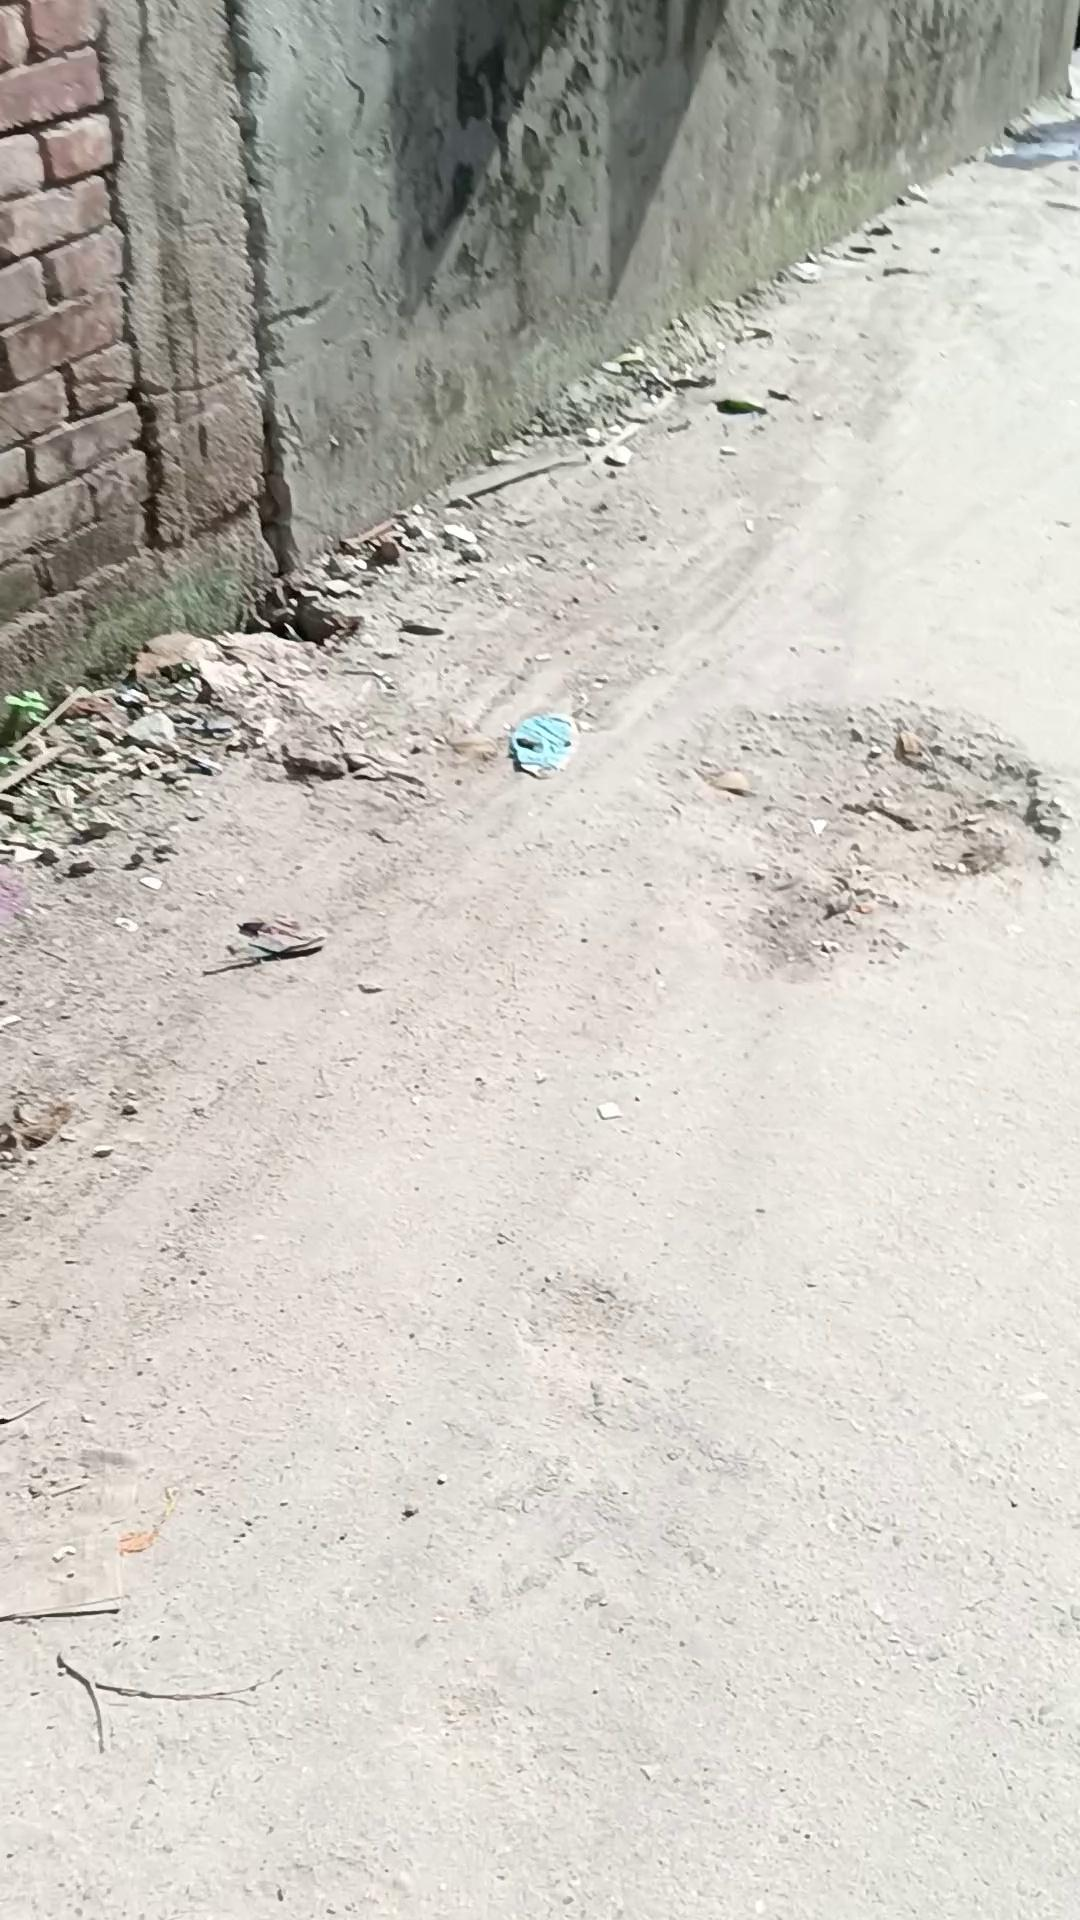Potted-plant: (3, 47, 1076, 1915)
